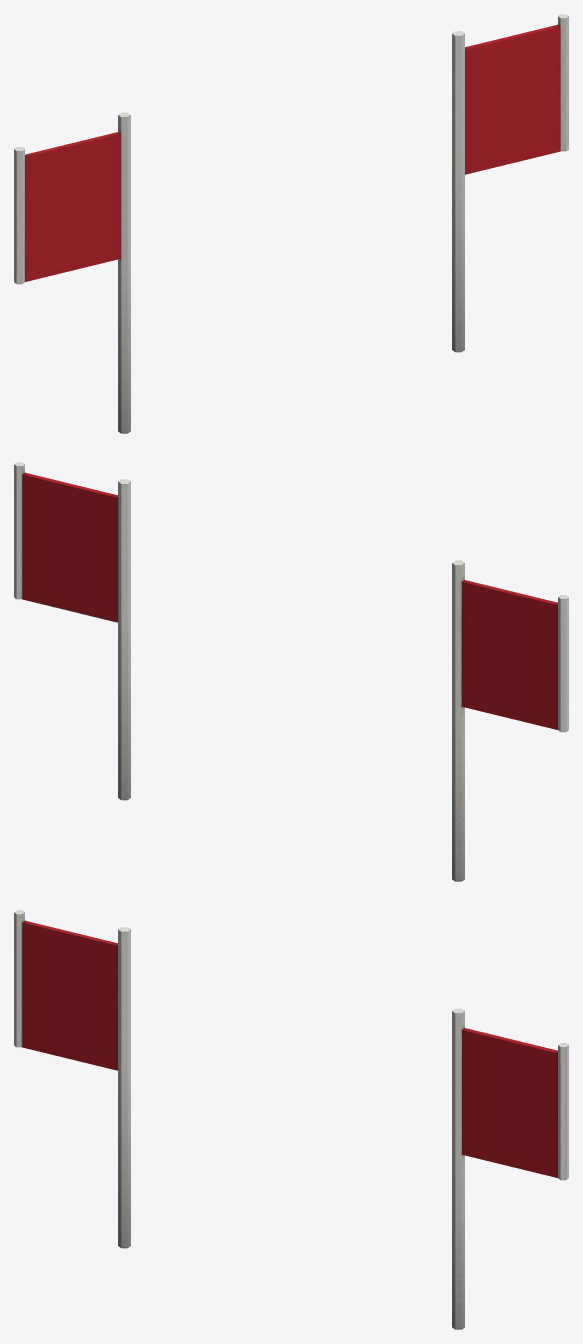
The model's file is puerta_roja.glb.
3 views of the same model, one above another, from view 1: azimuth 30°, elevation 25°; view 2: azimuth 150°, elevation 25°; view 3: azimuth 330°, elevation 25° (orthographic).
Parts seen in each view (by area): view 1: puerta_roja; view 2: puerta_roja; view 3: puerta_roja.
Part boxes in pixels (x1,y1,x2,y2): puerta_roja: (14,14,568,433); puerta_roja: (14,462,568,881); puerta_roja: (14,910,568,1329).
Bounding box in the file's own units: 3.47 × 1.9 × 0.07.
Materials: 1 (1 with a texture image).
